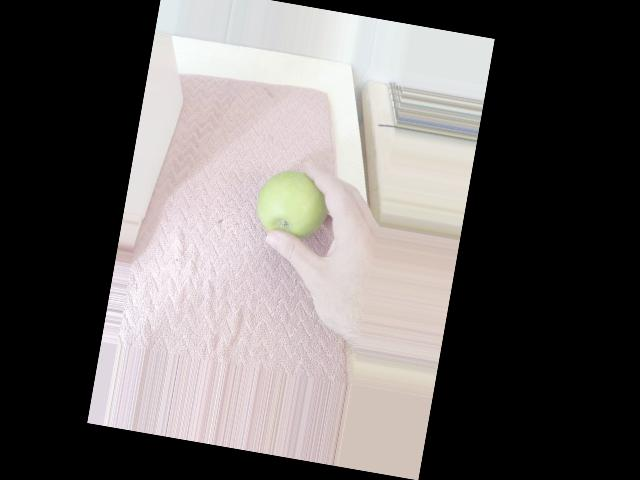apple: (241, 154, 332, 246)
